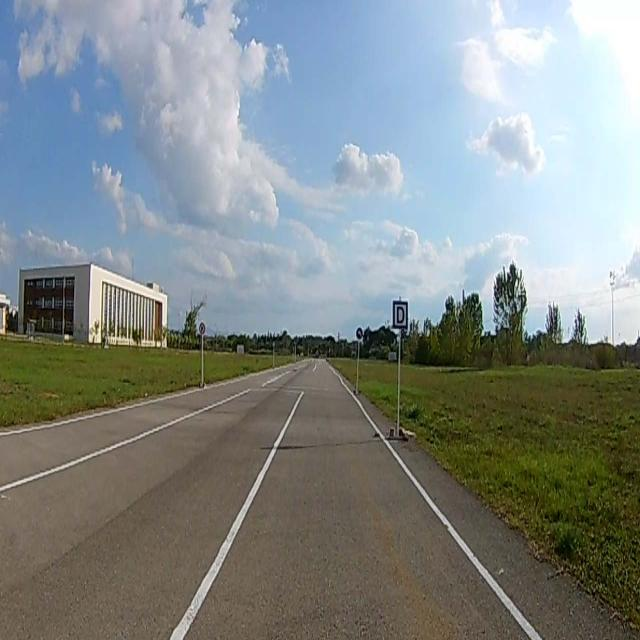durak: (394, 301, 408, 328)
